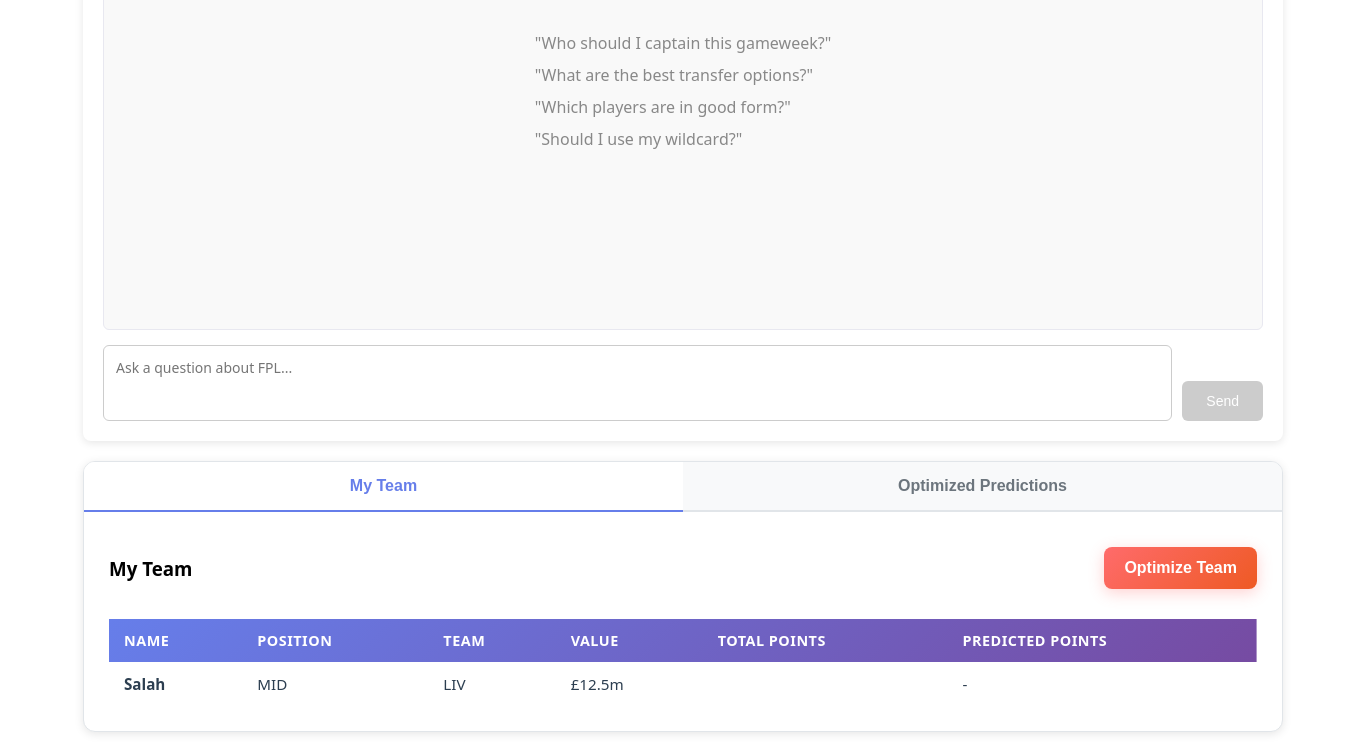
optimize button disables while request is in flight
The image size is (1366, 752).
(page scrolled)
Step 1. Click the button "Optimize Team" → (1181, 568), box [1104,547,1257,589]
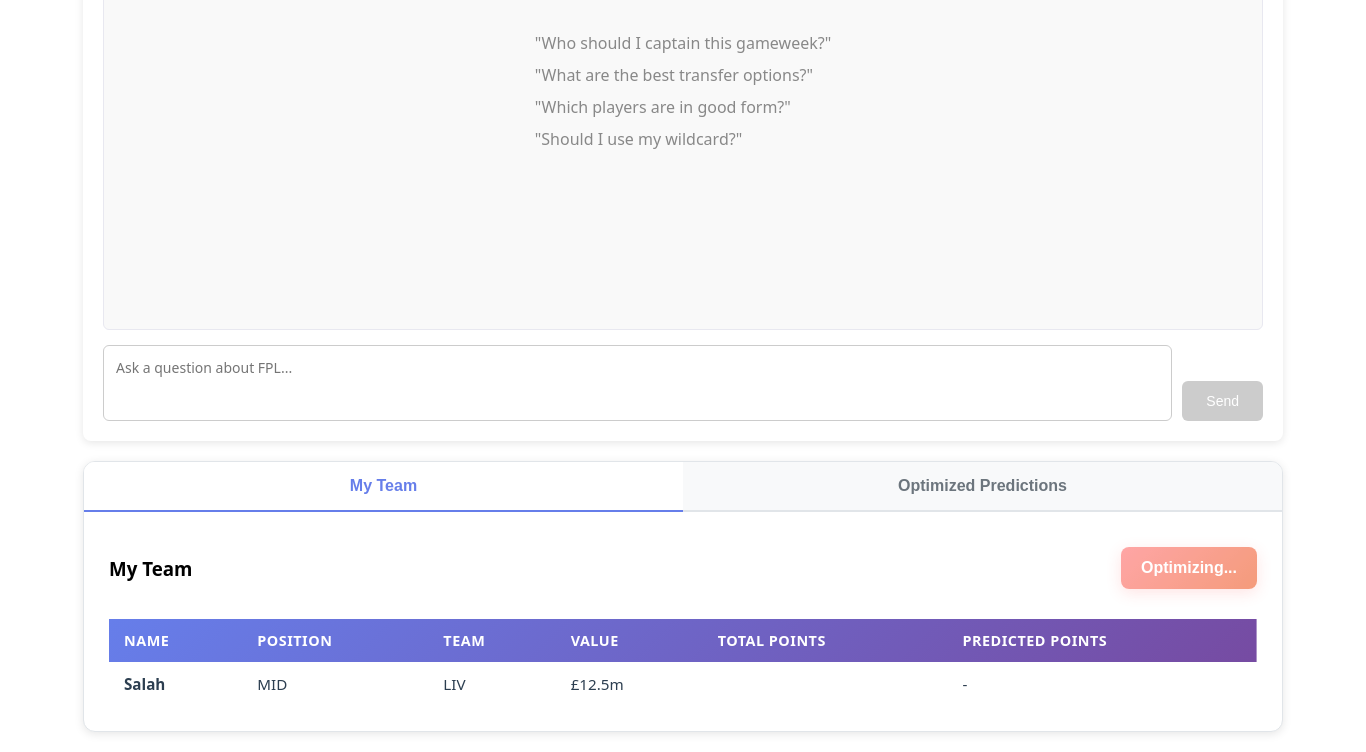
Check: the button named "optimize team" is disabled, box [1121,547,1257,589]
Check: the button named "optimize team" shows "Optimizing", box [1121,547,1257,589]
